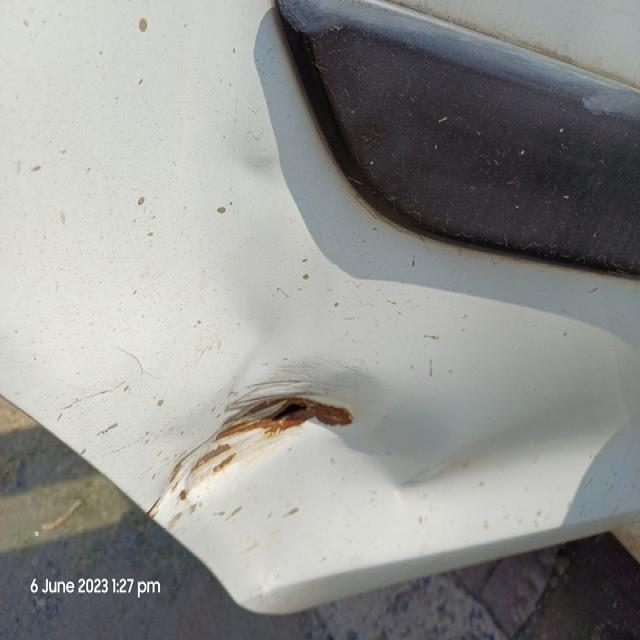damage: (140, 374, 366, 515)
